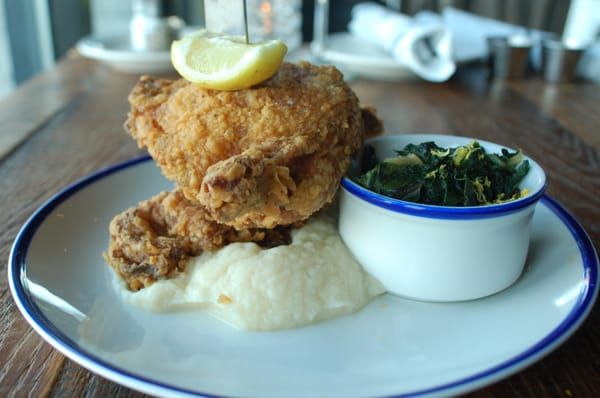soup: (108, 53, 366, 282)
sushi: (338, 132, 547, 303)
taco: (170, 28, 286, 90)
